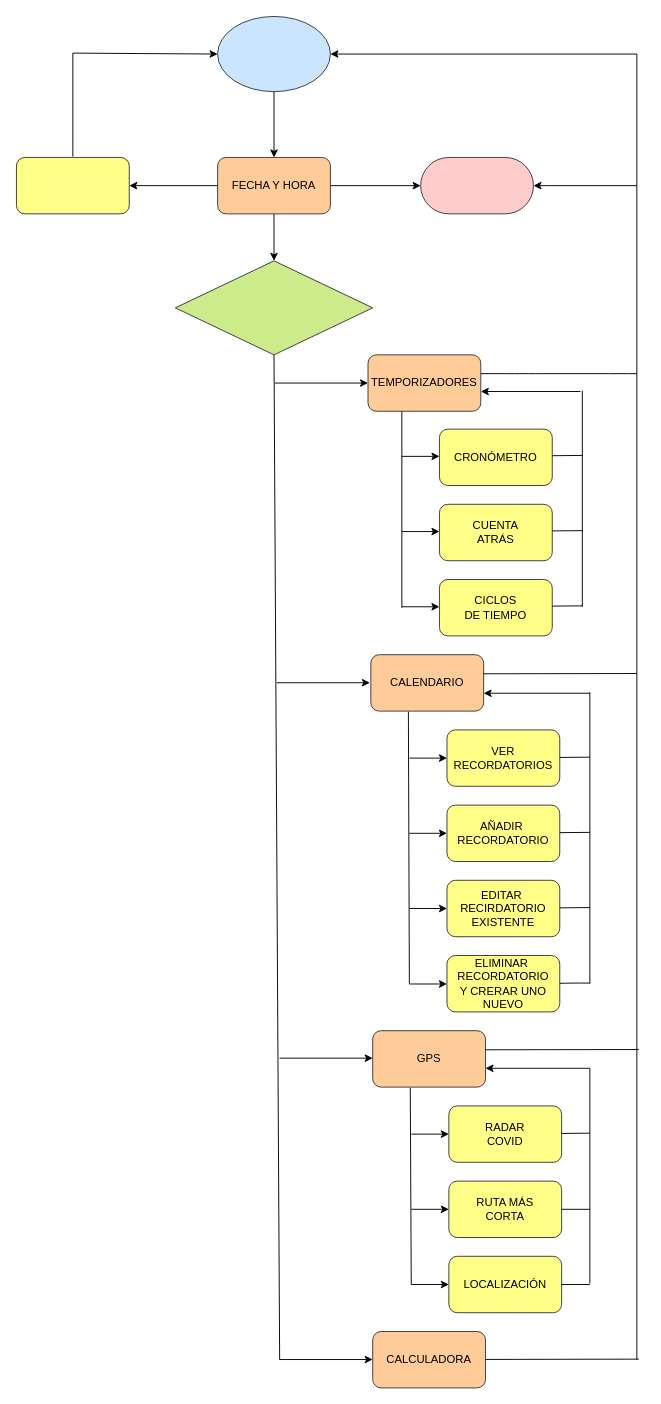
Image size: 661x1404. Some labels were removed from this diagram. The shapes that lost their labels are listed below. From the top down, each one's centre as x and y in pixels, then its label:
the point at 273,54: INICIO
the point at 72,185: MODIFICAR
the point at 476,185: FIN
the point at 273,307: ¿OTRA FUNCIÓN?
